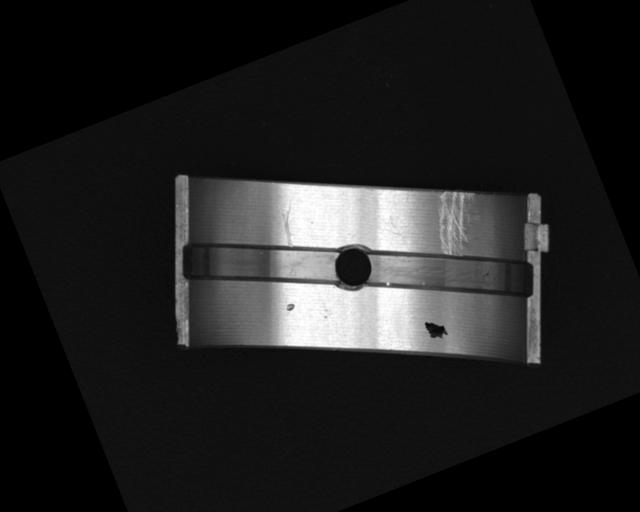blot: (421, 314, 450, 344)
bruise: (284, 302, 296, 313)
gap: (360, 203, 542, 349), (173, 195, 348, 329)
hole: (326, 240, 378, 294)
nick: (272, 201, 306, 247)
scratch: (422, 183, 491, 258)
